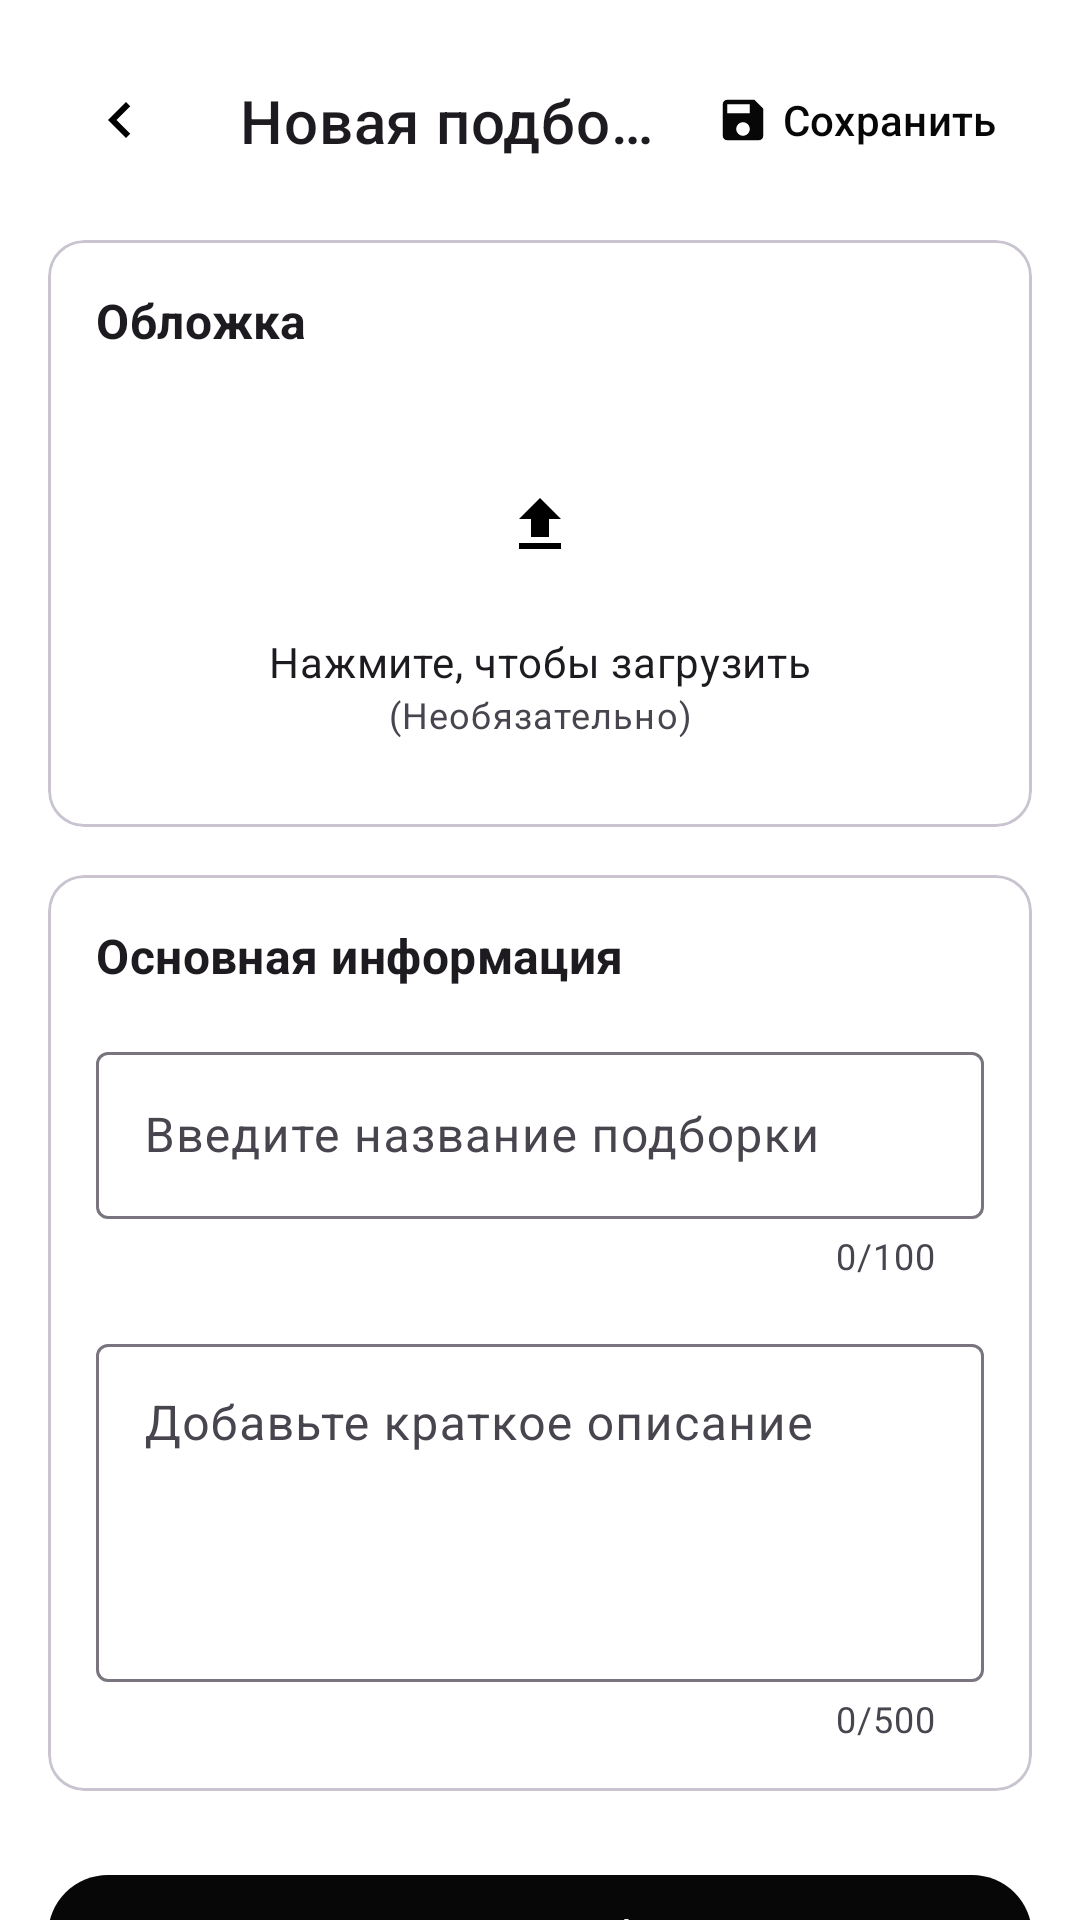

Icon bounding boxes for this 1080px×1920px phone screenshot, format (x1, y1, x2, y2):
Загрузить обложку: (519, 498, 561, 549)
Назад: (108, 102, 130, 138)
